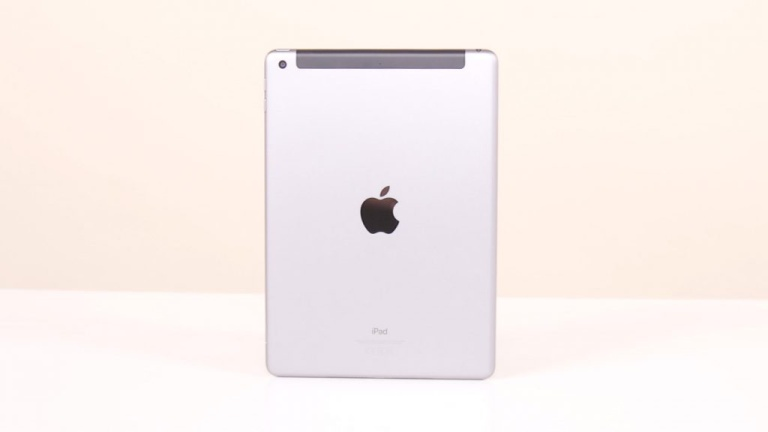apple: (353, 169, 409, 256)
